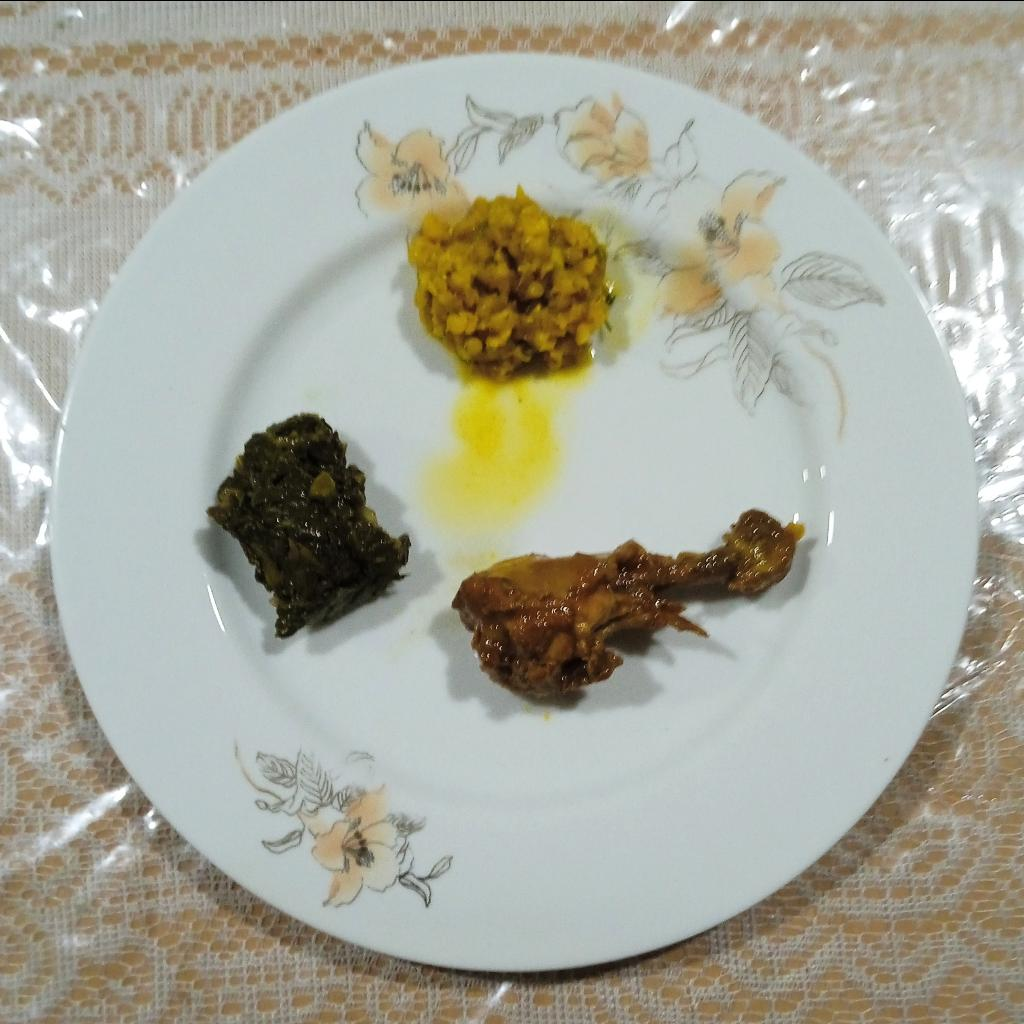chicken: (449, 506, 806, 701)
daal: (405, 185, 607, 381)
shak: (205, 412, 413, 642)
